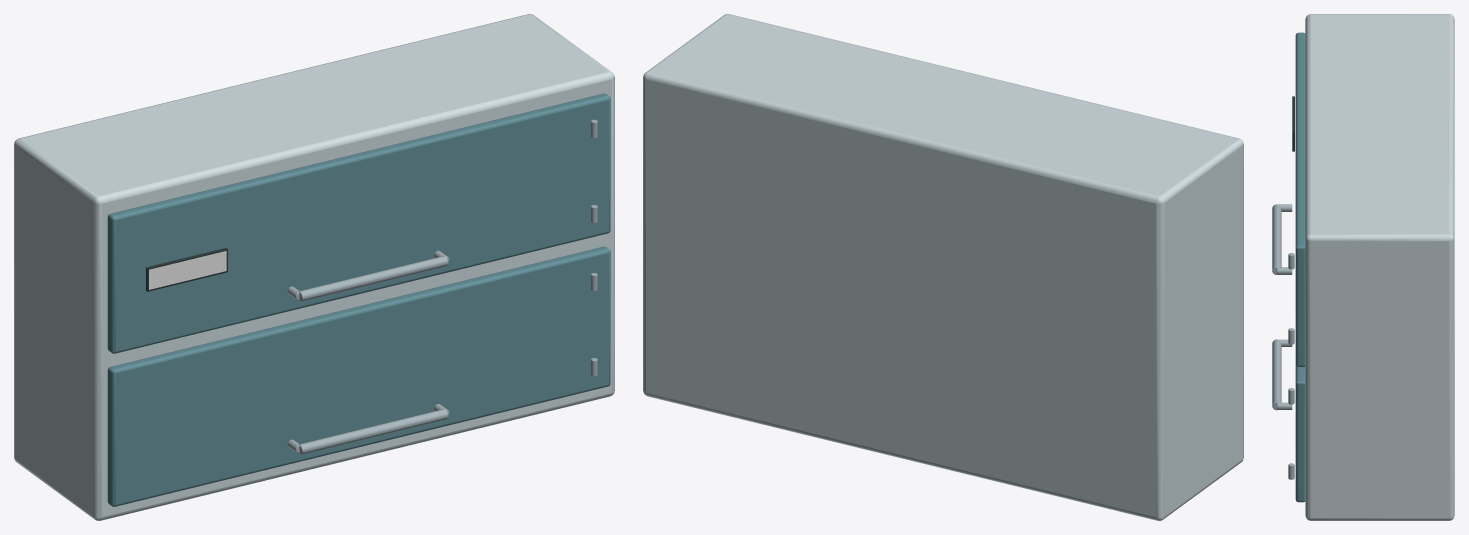
File: ID_LiftUpUpperCabinet.fbx
3 renders of one model, left to right at view 1: azimuth 30°, elevation 25°; view 2: azimuth 150°, elevation 25°; view 3: azimuth 270°, elevation 25°, orthographic. The views are drawn at different scales.
Visible parts, largest first — view 1: ID_LiftUpUpperCabinet; view 2: ID_LiftUpUpperCabinet; view 3: ID_LiftUpUpperCabinet.
Part boxes in pixels (x1,y1,x2,y2): ID_LiftUpUpperCabinet: (14,14,614,520); ID_LiftUpUpperCabinet: (643,14,1243,520); ID_LiftUpUpperCabinet: (1272,14,1454,520).
Size of the model in its own units: 121 by 72 by 41.55.
